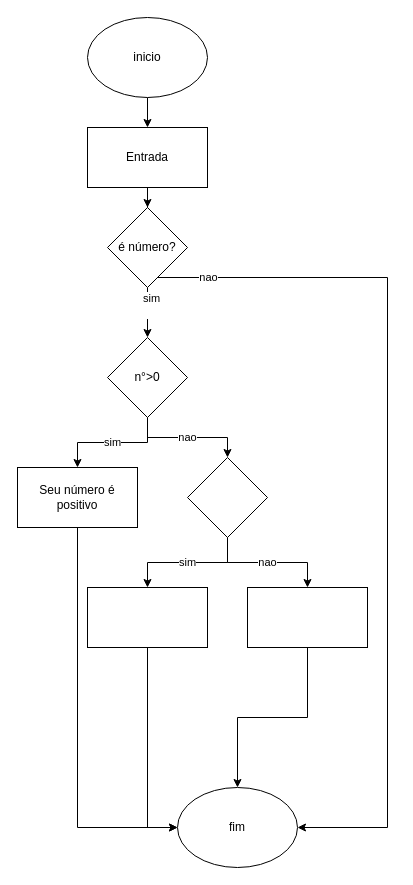
Image size: 413x885. Some labels were removed from this diagram. Each missing label, with the centre of its shape:
n°<0: [227,497]
Seu número é negativo: [147,617]
Seu número é zero: [307,617]
